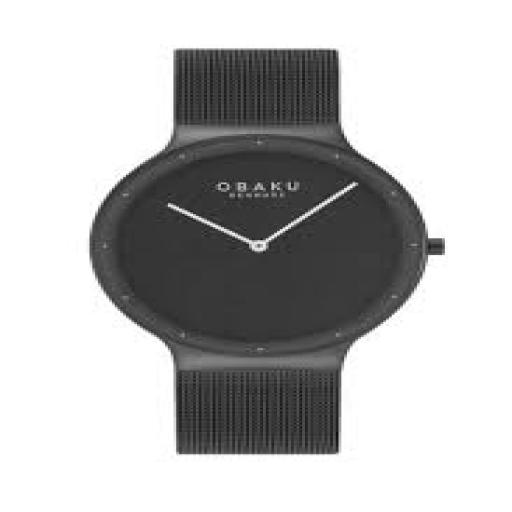KolSaati: (60, 33, 480, 473)
